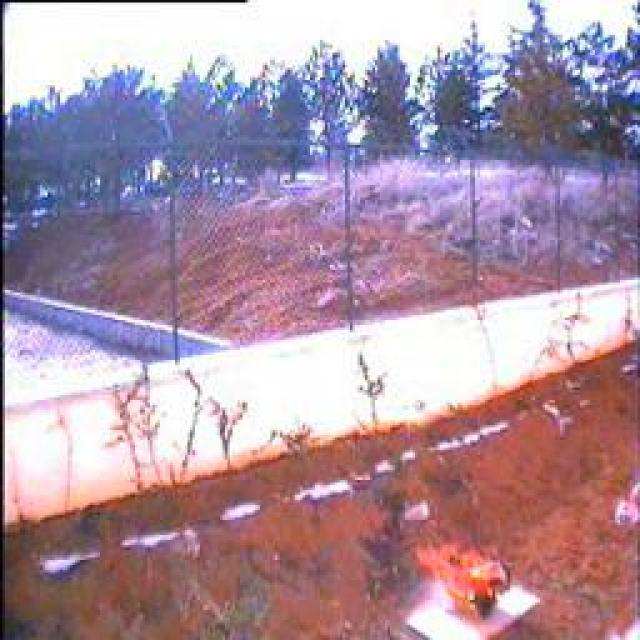Fire: (412, 540, 516, 628)
